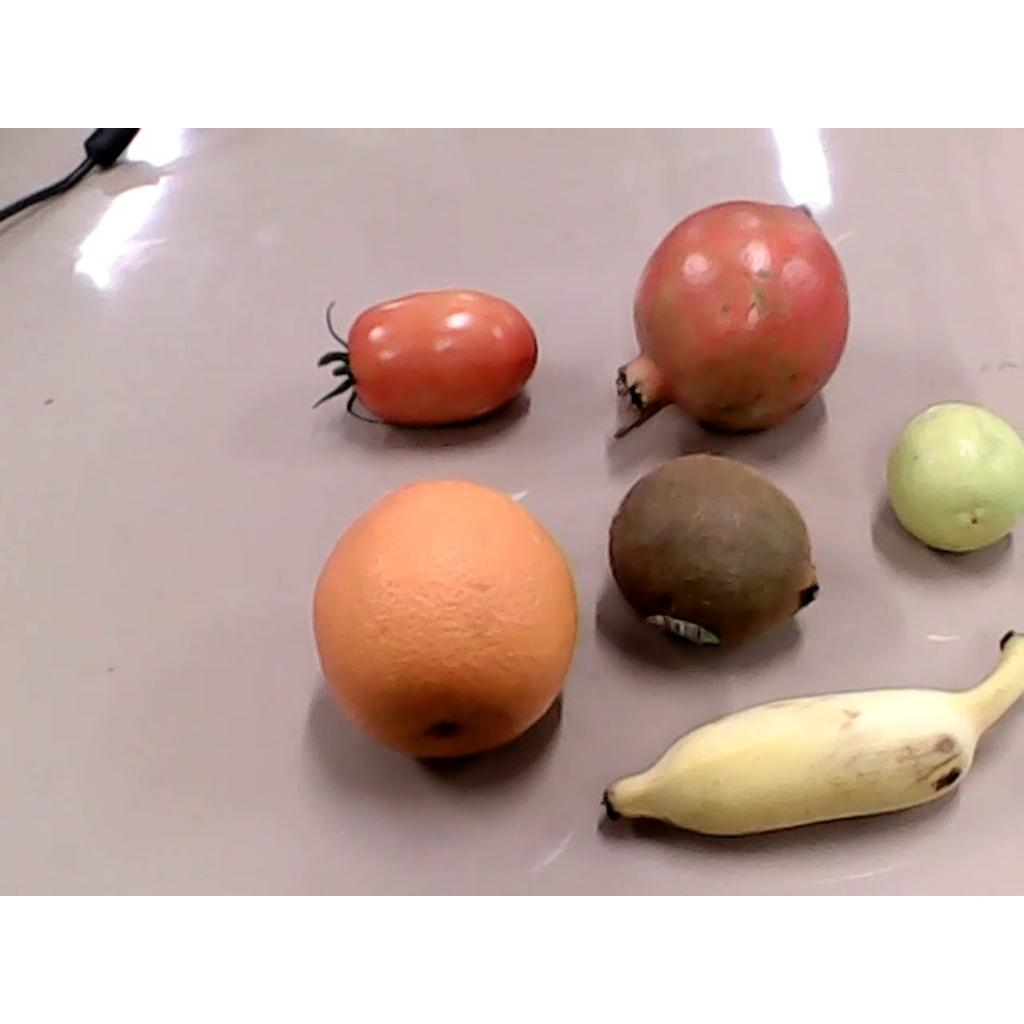kiwi: (605, 454, 820, 651)
lemon: (886, 400, 1022, 553)
orange: (313, 482, 578, 757)
pomegranate: (613, 203, 849, 439)
tomato: (312, 287, 536, 424)
